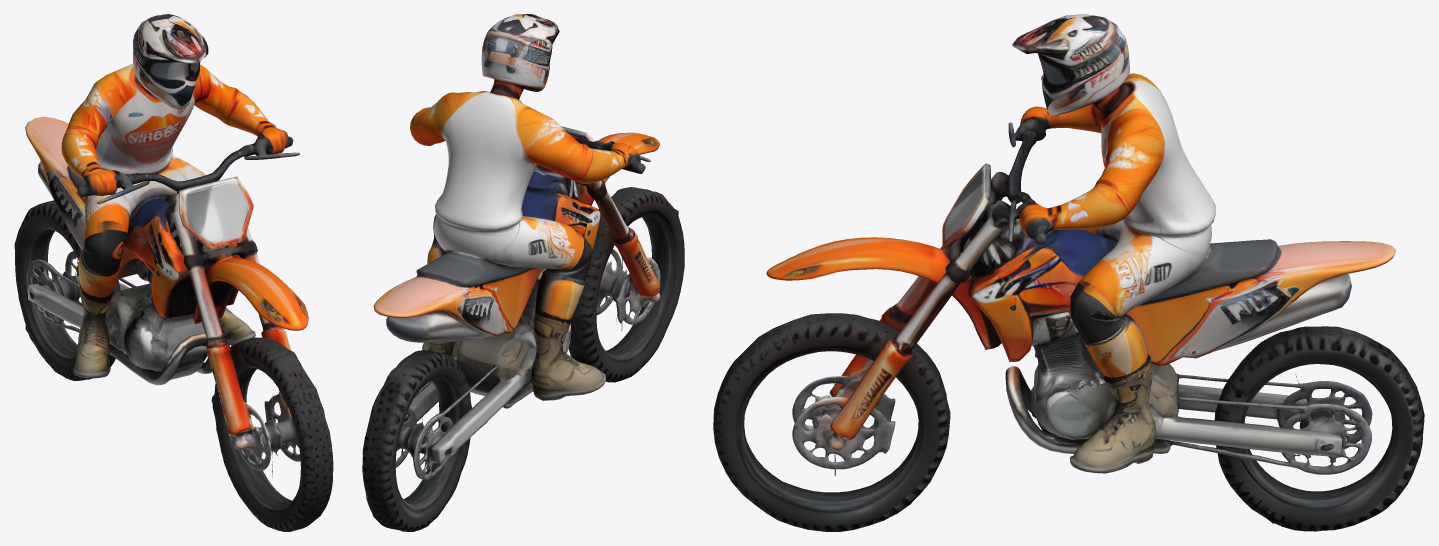
File: rider-bike.glb
3 views of the same model, side by side, from view 1: azimuth 30°, elevation 25°; view 2: azimuth 150°, elevation 25°; view 3: azimuth 270°, elevation 25° (orthographic). The views are drawn at different scales.
Parts seen in each view (by area): view 1: model; view 2: model; view 3: model.
Boxes of the visible parts, x1,y1,x2,y2 form: model: (14,14,333,531); model: (362,14,684,531); model: (713,14,1424,531).
Bounding box in the file's own units: 0.7592 × 1.45 × 1.83.
1 material, 1 textured.
